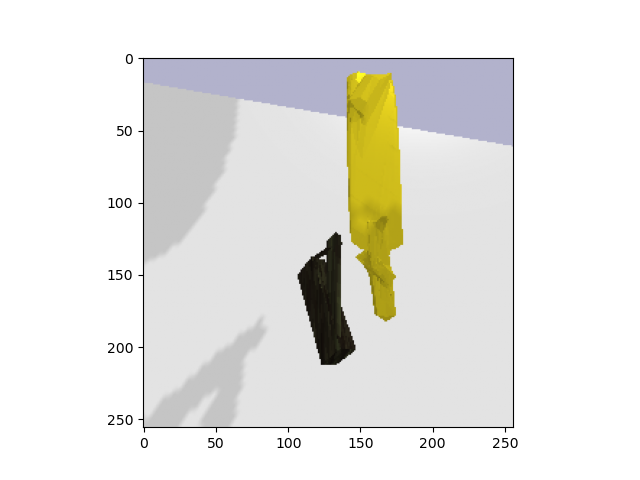v249b387_108: (342, 69, 413, 321)
v249b387_109: (294, 231, 350, 375)
